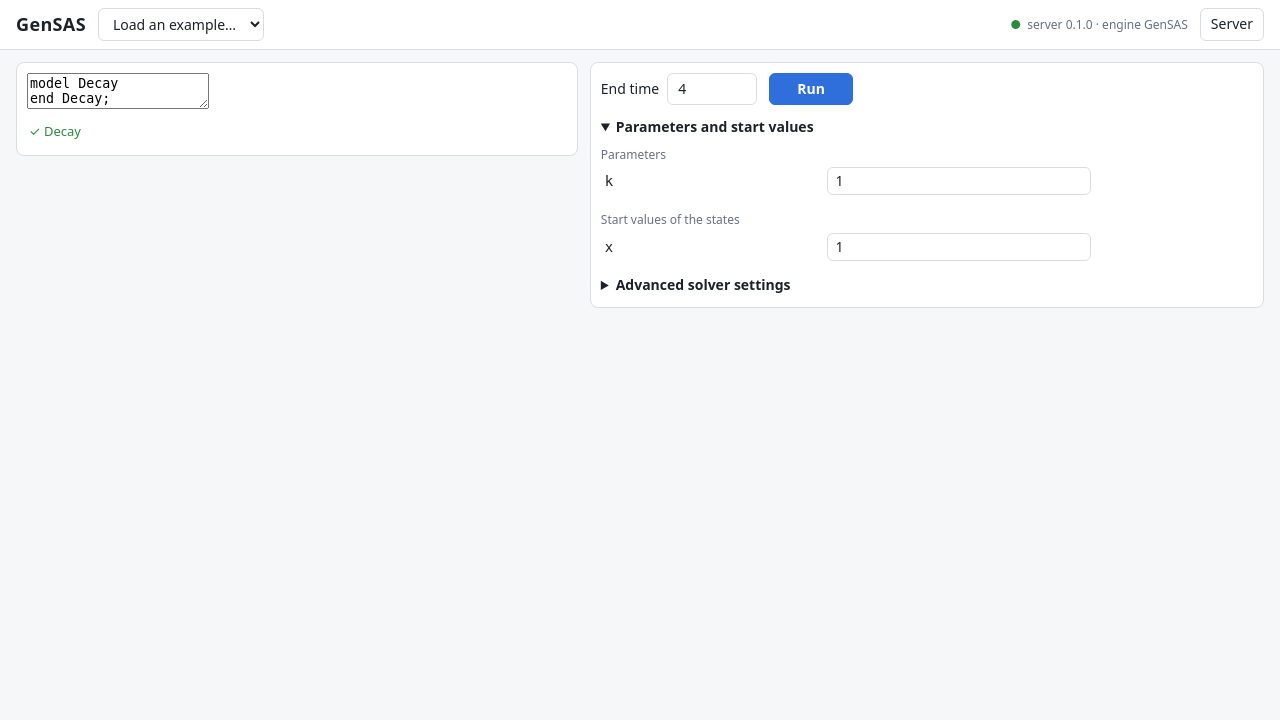
Test: App › loads another example and clears the result
This screenshot has width=1280, height=720.
Click the button "Run" at x=811, y=89, box [769,73,853,105]
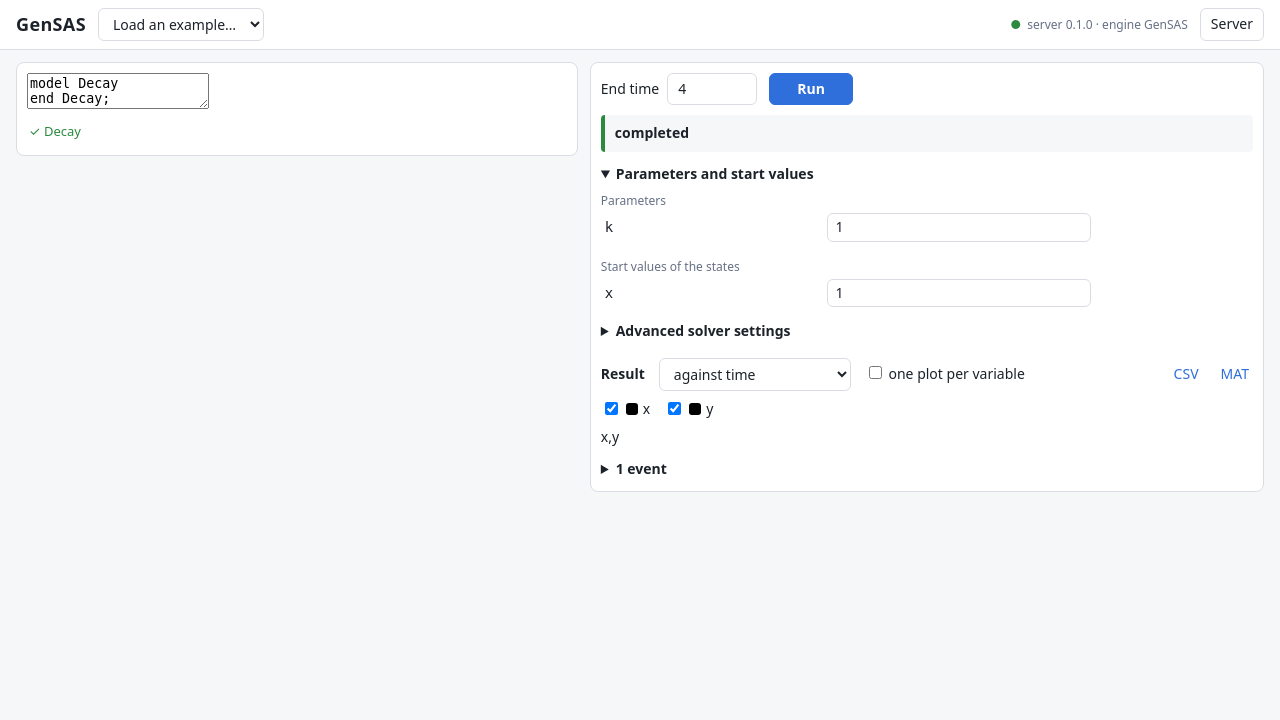
Check: the text "x,y" is shown, box [601,427,619,446]
Select "Two" in the dropdown named "example" at x=181, y=24, box [98,8,264,41]
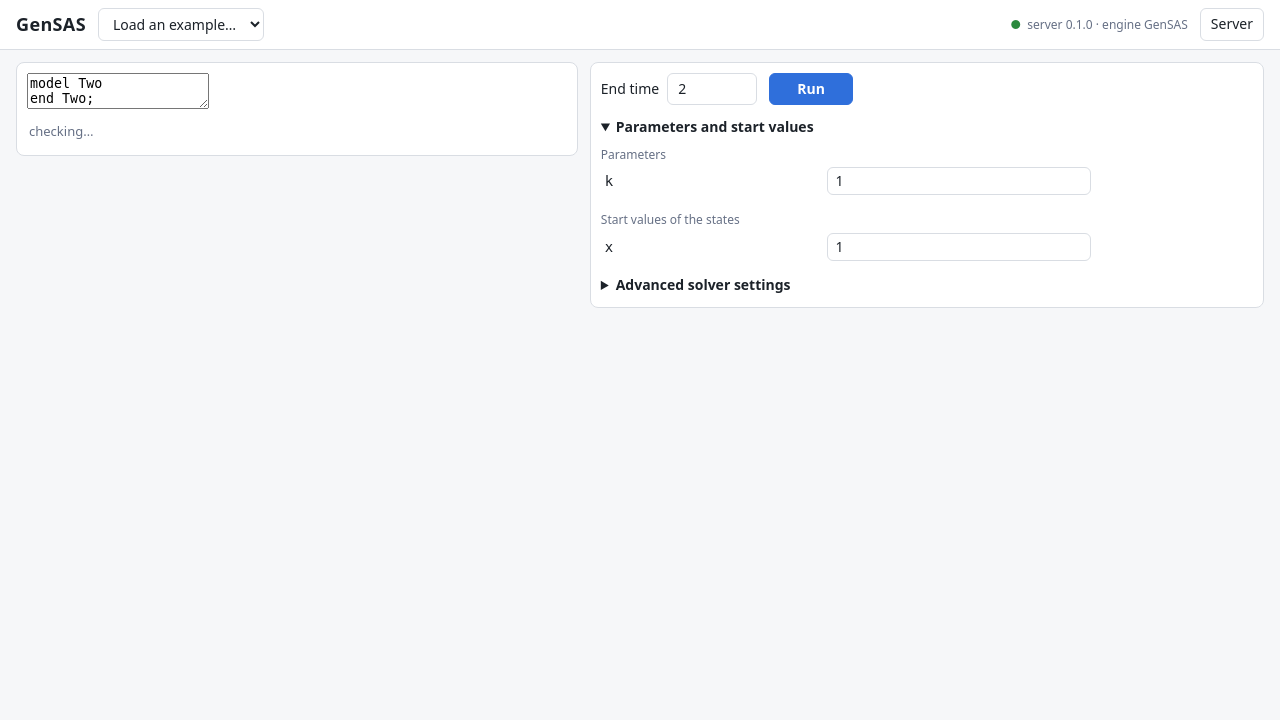
Check: the field named "end time" holds "2", box [667,73,757,105]
Check: the dropdown with test id "plot" is gone
